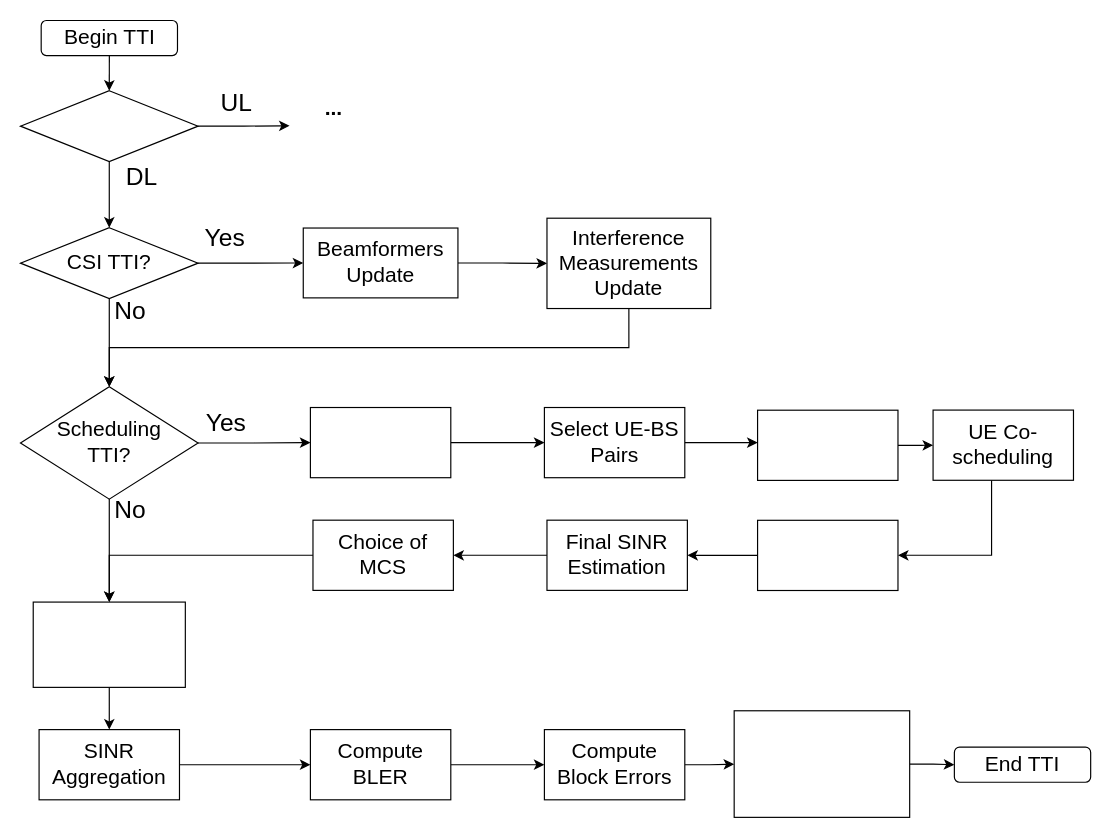
Some shapes in this 1112 by 839 pixel diagram are drawn without their labels. The shapes that lost their labels are listed below. From the top down, each one's centre as x and y in pixels, then its label:
At point 108,126: "Identify TTI".
At point 380,442: "List UEs for Scheduling".
At point 827,444: "Compute UE Priorities".
At point 827,554: "Power Control".
At point 108,644: "Compute Experienced SINR per PRB".
At point 821,763: "Update Buffers, Link-State Parameters and KPIs".
